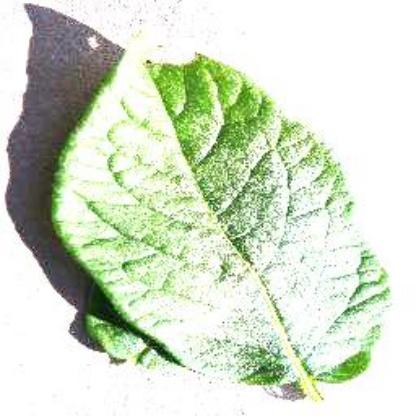Healthy-plant: (34, 32, 402, 404)
